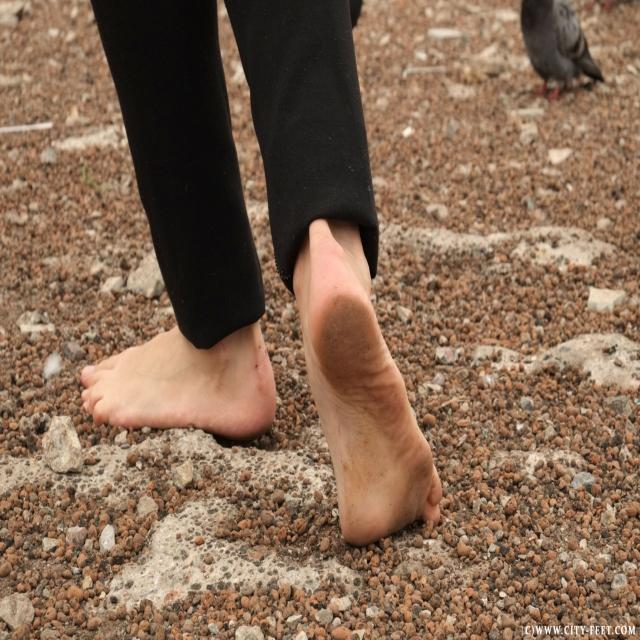Barefoots: (307, 263, 443, 545), (81, 321, 277, 437)
